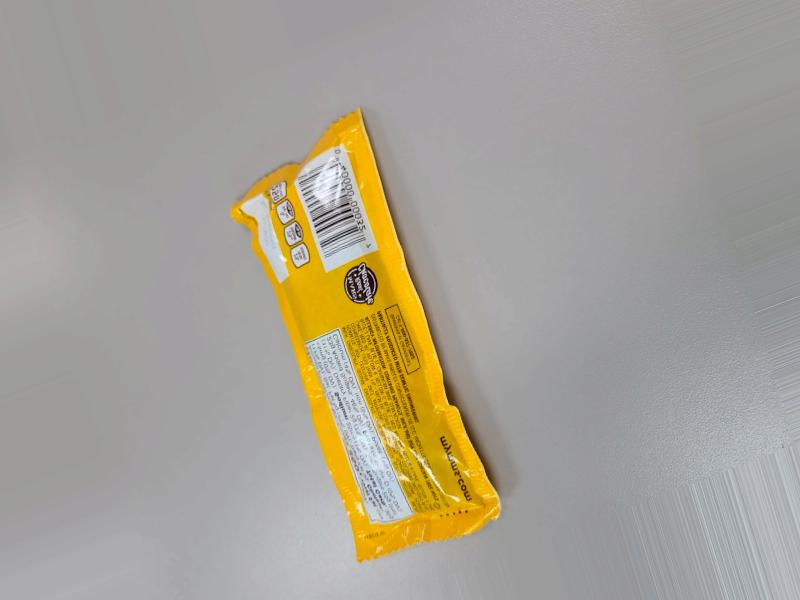m&m: (257, 176, 444, 600)
